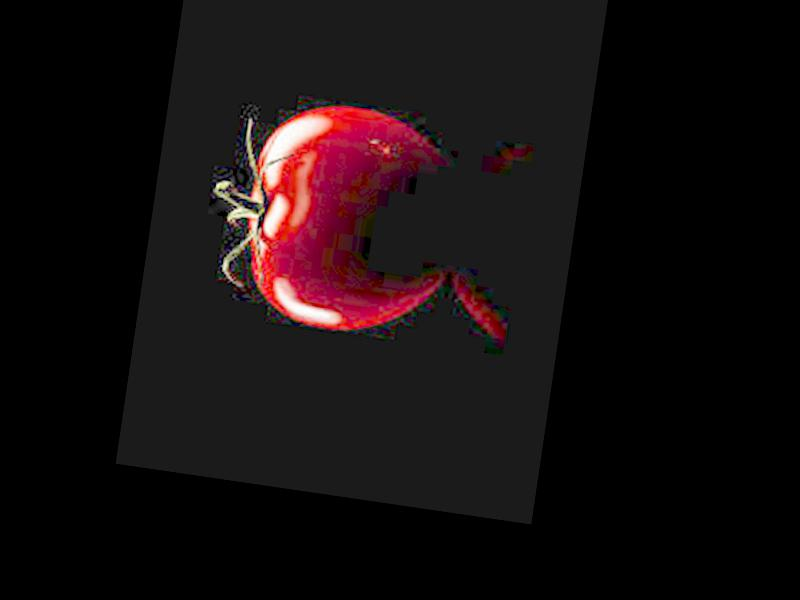Tomato: (228, 93, 460, 342)
